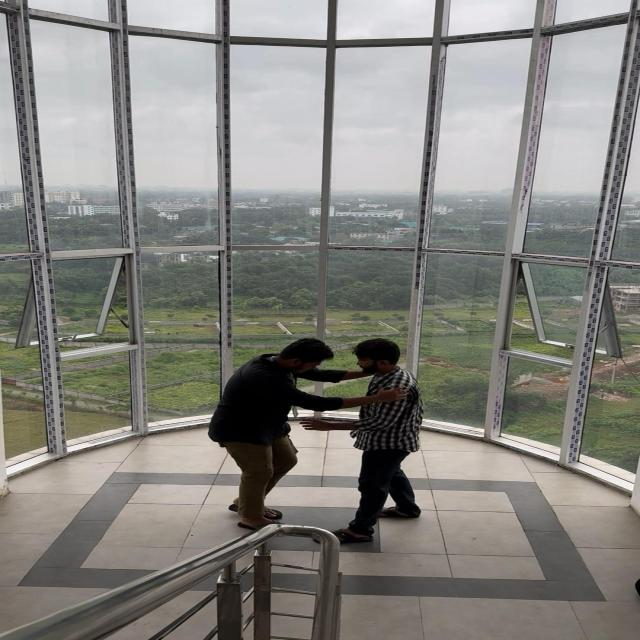fight: (168, 321, 468, 565)
